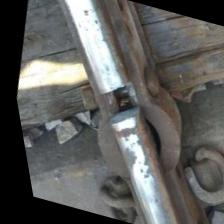person: (66, 54, 166, 144)
